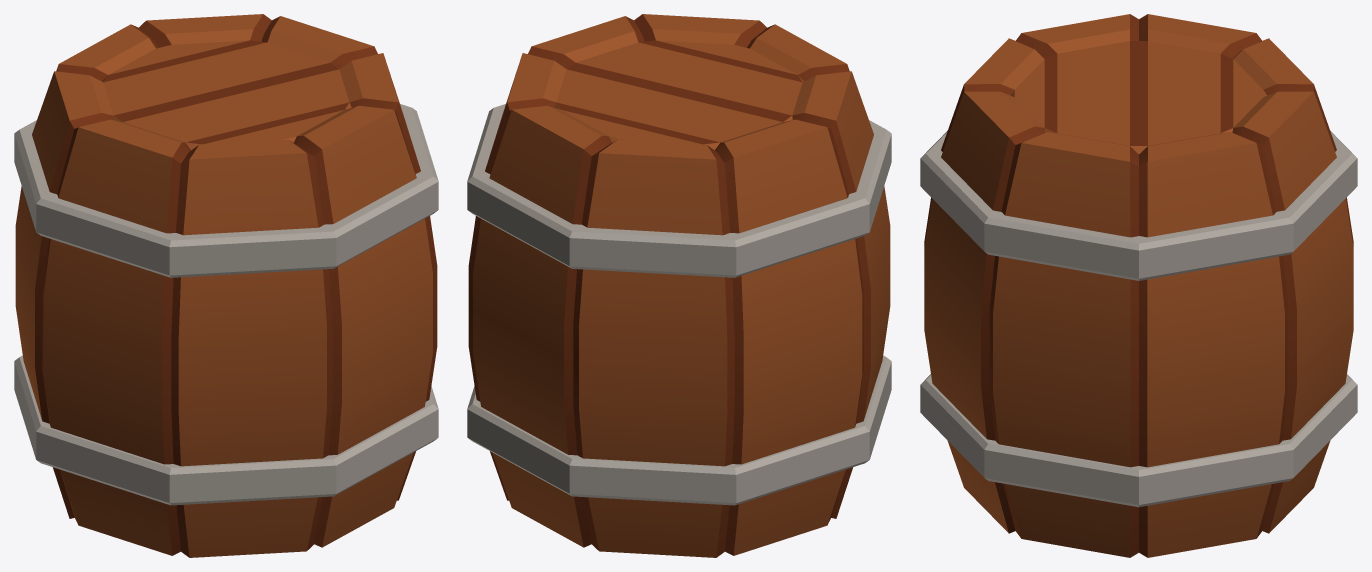
File: m_dec_dung_barrel.fbx
3 renders of one model, left to right at view 1: azimuth 30°, elevation 25°; view 2: azimuth 150°, elevation 25°; view 3: azimuth 270°, elevation 25°, orthographic.
Visible parts, largest first — view 1: m_dec_dung_barrel; view 2: m_dec_dung_barrel; view 3: m_dec_dung_barrel.
Boxes of the visible parts, x1,y1,x2,y2 form: m_dec_dung_barrel: [14, 14, 438, 557]; m_dec_dung_barrel: [467, 14, 891, 557]; m_dec_dung_barrel: [920, 14, 1357, 557].
Bounding box in the file's own units: 2 × 2 × 2.
